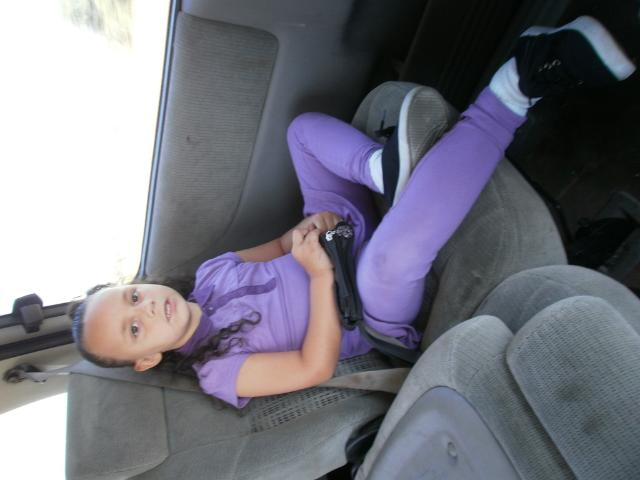Seatbelt: (8, 357, 410, 397)
